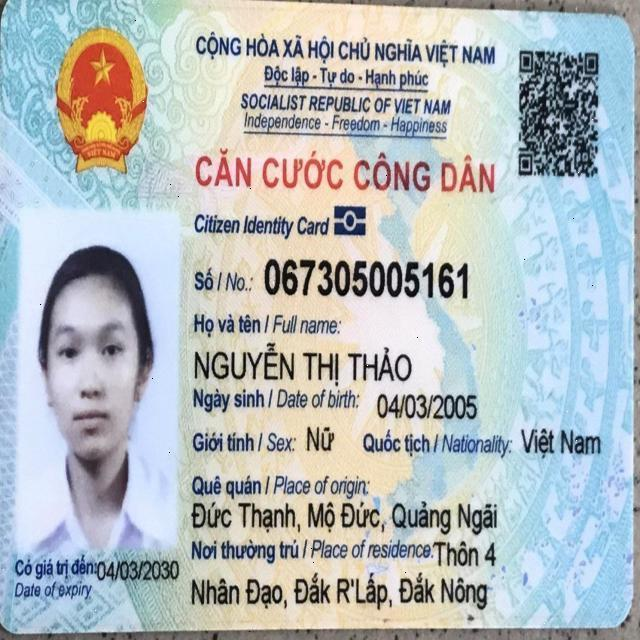current_place: (187, 569, 491, 616), (429, 537, 500, 574)
dob: (374, 388, 480, 425)
expire_date: (96, 554, 183, 587)
gender: (303, 421, 337, 457)
id: (261, 252, 473, 307)
name: (188, 337, 416, 389)
nationality: (517, 421, 605, 464)
origin_place: (186, 496, 502, 539)
